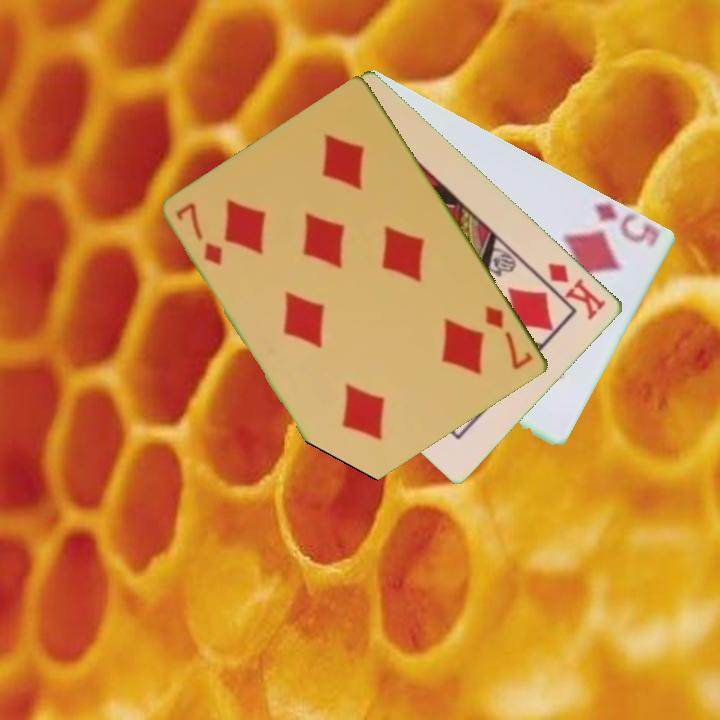5d: (590, 199, 659, 247)
7d: (482, 302, 536, 373), (172, 199, 226, 269)
Kd: (544, 259, 610, 323)
